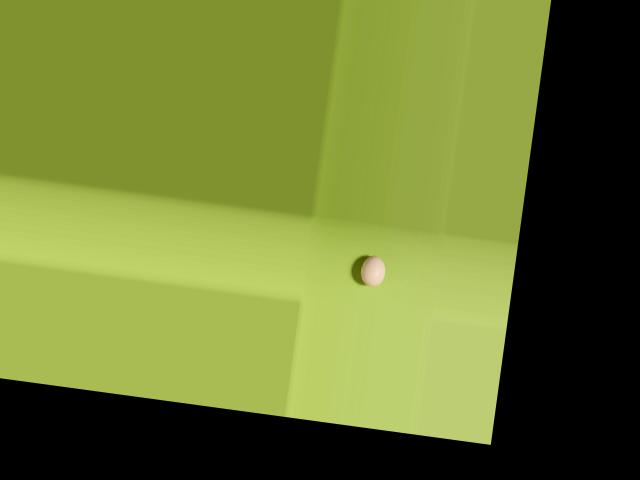egg: (358, 253, 386, 287)
